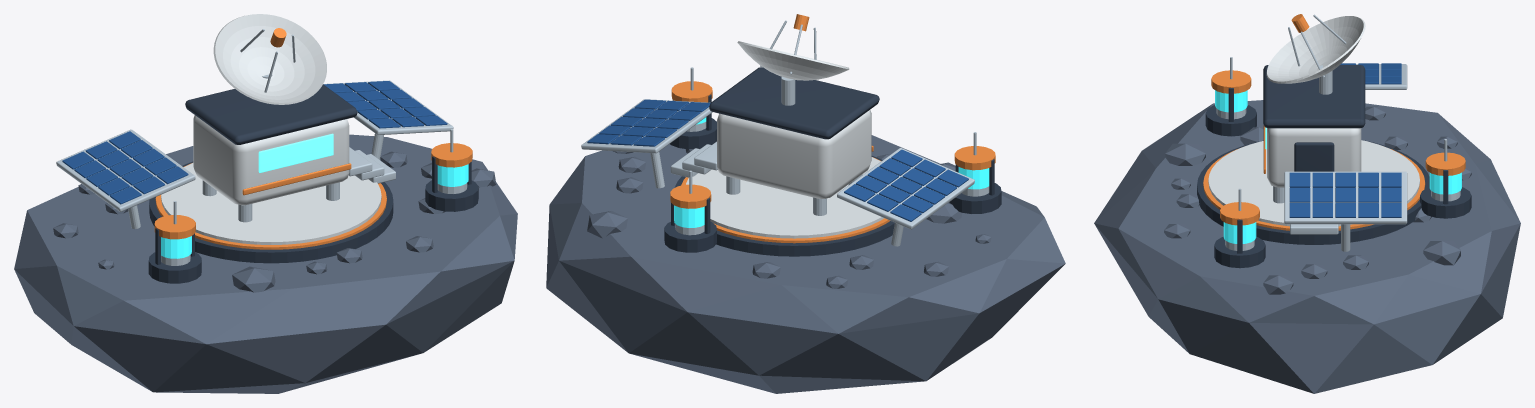
Rendered from outpost.glb.
3 views of the same model, side by side, from view 1: azimuth 30°, elevation 25°; view 2: azimuth 150°, elevation 25°; view 3: azimuth 270°, elevation 25° (orthographic). The views are drawn at different scales.
Visible parts, largest first — view 1: Asteroid, Pad_Surface, Dish, Habitat, Roof, Landing_Pad, Solar_Frame, Front_Window, Pad_Trim, Relay_01_Base, Relay_02_Base, Solar_Frame.001 (+7 smaller); view 2: Asteroid, Habitat, Pad_Surface, Roof, Landing_Pad, Dish, Solar_Frame, Solar_Frame.001, Relay_03_Base, Pad_Trim, Relay_01_Base, Relay_01_Cap (+7 smaller); view 3: Asteroid, Roof, Pad_Surface, Dish, Habitat, Landing_Pad, Solar_Frame.001, Airlock, Relay_02_Base, Relay_03_Base, Relay_01_Base, Pad_Trim (+11 smaller).
Part boxes in pixels (box(x1,y1,x2,y2)): Asteroid: box(14, 134, 517, 393); Pad_Surface: box(161, 163, 381, 244); Dish: box(213, 14, 326, 104); Habitat: box(193, 115, 349, 205); Roof: box(185, 84, 357, 144); Landing_Pad: box(149, 161, 393, 263); Solar_Frame: box(56, 129, 195, 211); Front_Window: box(258, 133, 333, 172); Pad_Trim: box(155, 163, 386, 249); Relay_01_Base: box(148, 252, 201, 283); Relay_02_Base: box(425, 180, 478, 211); Solar_Frame.001: box(323, 80, 453, 135); Asteroid: box(546, 135, 1065, 393); Habitat: box(717, 110, 871, 198); Pad_Surface: box(686, 157, 884, 238); Roof: box(709, 67, 879, 139); Landing_Pad: box(674, 156, 894, 256); Dish: box(737, 41, 849, 80); Solar_Frame: box(837, 147, 974, 229); Solar_Frame.001: box(581, 99, 712, 153); Relay_03_Base: box(664, 221, 716, 252); Pad_Trim: box(681, 157, 890, 243); Relay_01_Base: box(949, 183, 1001, 213); Relay_01_Cap: box(954, 146, 995, 170); Asteroid: box(1094, 100, 1520, 393); Roof: box(1263, 65, 1365, 128); Pad_Surface: box(1208, 140, 1419, 226); Dish: box(1266, 16, 1365, 83); Habitat: box(1267, 128, 1361, 187); Landing_Pad: box(1197, 140, 1429, 244); Solar_Frame.001: box(1284, 171, 1407, 224); Airlock: box(1294, 142, 1334, 171); Relay_02_Base: box(1214, 236, 1265, 268); Relay_03_Base: box(1420, 187, 1471, 218); Relay_01_Base: box(1205, 105, 1256, 136); Pad_Trim: box(1203, 149, 1425, 230).
Size of the model in its own units: 9.04 by 6.32 by 7.47.
